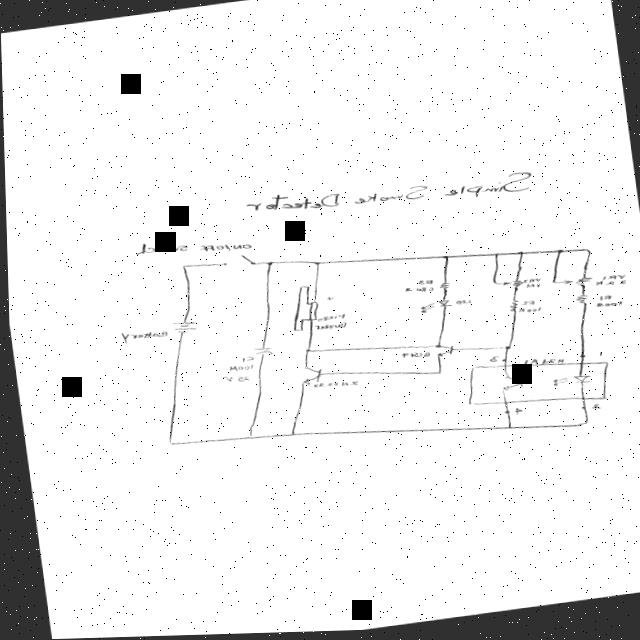capacitor: (248, 346, 271, 357)
diode: (542, 371, 591, 392), (415, 299, 450, 315)
junction: (573, 423, 585, 429), (512, 252, 522, 258), (579, 250, 589, 256), (262, 261, 271, 267), (300, 348, 309, 354), (552, 251, 562, 256), (498, 347, 508, 352), (284, 431, 292, 437), (242, 434, 250, 440), (438, 256, 447, 261), (488, 282, 496, 287), (162, 440, 170, 445), (310, 262, 319, 266), (502, 427, 509, 432), (177, 264, 184, 269), (432, 372, 439, 377), (490, 254, 497, 258), (547, 283, 553, 286)
resistor: (559, 278, 590, 292), (497, 280, 521, 292), (571, 294, 587, 309), (504, 300, 516, 315), (435, 282, 449, 293)
source: (166, 318, 196, 335)
switch: (215, 253, 253, 270)
text: (240, 162, 532, 229), (131, 229, 250, 264), (115, 326, 166, 344), (308, 379, 356, 393), (217, 373, 247, 385), (400, 285, 432, 296), (310, 322, 345, 332), (396, 350, 427, 361), (314, 313, 343, 324), (591, 302, 621, 312), (223, 363, 251, 373), (519, 360, 563, 366), (514, 307, 539, 317), (592, 282, 624, 289), (598, 275, 623, 283), (413, 279, 431, 288), (519, 279, 539, 286), (521, 284, 538, 292), (516, 301, 533, 309), (236, 355, 251, 364), (451, 300, 469, 307), (595, 296, 610, 304), (508, 408, 520, 418), (484, 356, 497, 365), (586, 405, 599, 413), (592, 352, 601, 360)
transistor: (489, 372, 527, 399), (294, 362, 321, 387), (427, 343, 452, 360)
